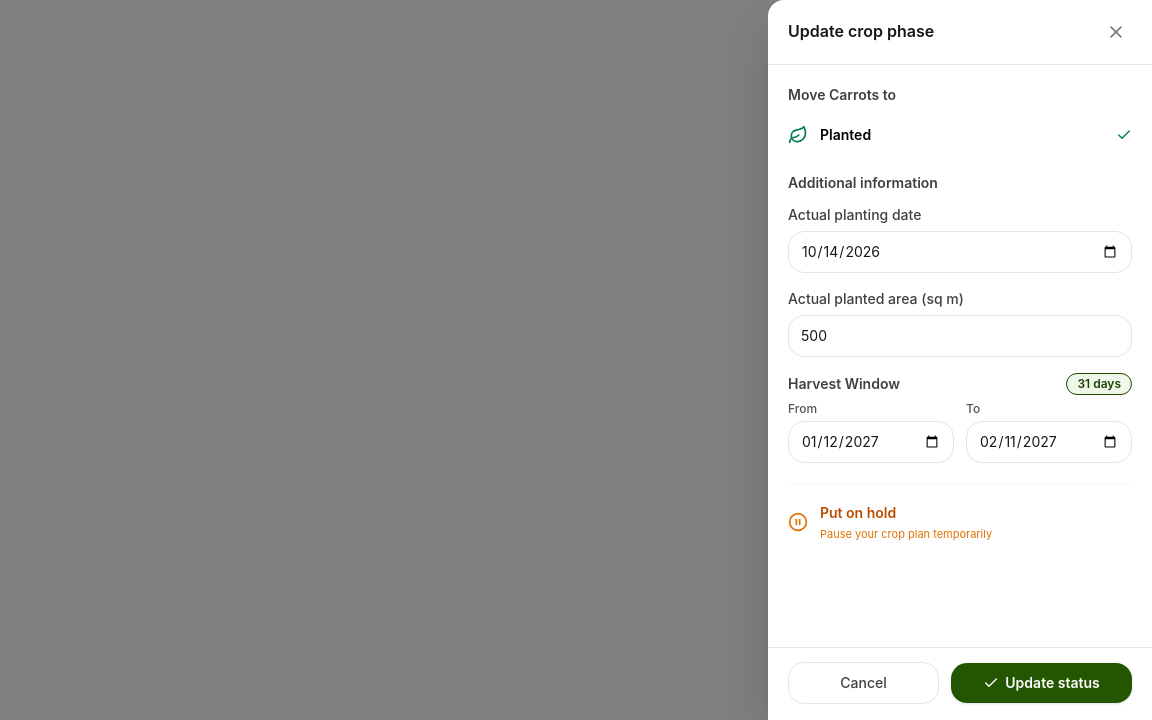
UpdatePhaseDrawer auto-fill harvest date › re-calculates updatedHarvestDate when actualPlantingDate changes
Change planting date to 2026-11-01. 90 days from 2026-11-01 is 2027-01-30.
Type "2026-11-01" into the date field labelled "Actual planting date". click: (960, 252)
box: [788,231,1132,273]
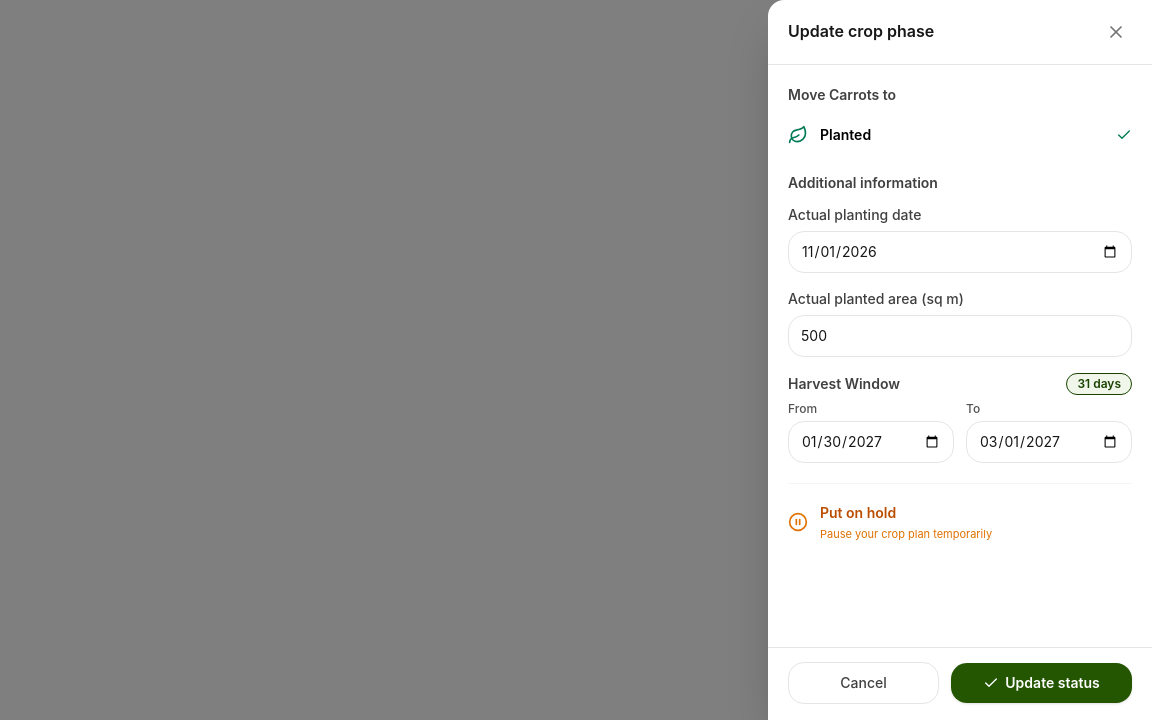
Check: the date field labelled "From" holds "2027-01-30", box [788,421,954,463]
Check: the date field labelled "To" holds "2027-03-01", box [966,421,1132,463]
